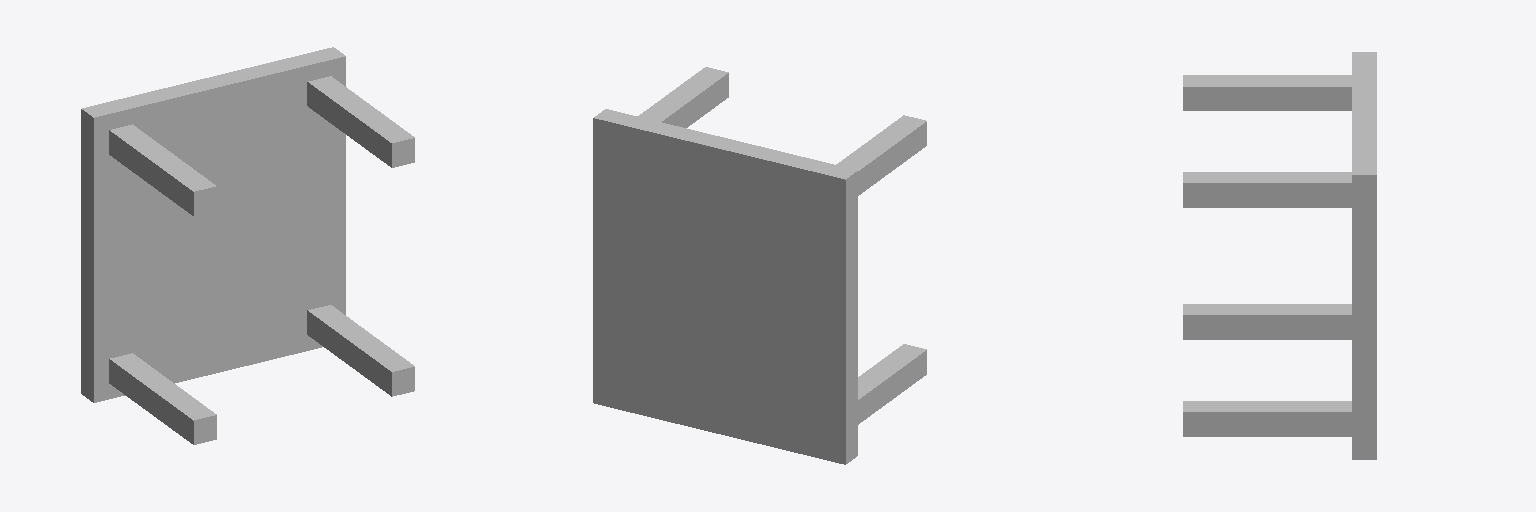
Rendered from random_table59.obj.
The picture shows the model from 3 angles: view 1: azimuth 30°, elevation 25°; view 2: azimuth 150°, elevation 25°; view 3: azimuth 270°, elevation 25°; orthographic projection.
Visible parts, largest first — view 1: Table_Cube.1360, TableLeg2_Cube.1363, TableLeg0_Cube.1361, TableLeg3_Cube.1364, TableLeg1_Cube.1362; view 2: Table_Cube.1360, TableLeg1_Cube.1362, TableLeg3_Cube.1364, TableLeg0_Cube.1361; view 3: Table_Cube.1360, TableLeg0_Cube.1361, TableLeg1_Cube.1362, TableLeg2_Cube.1363, TableLeg3_Cube.1364.
Boxes of the visible parts, box(x1,y1,x2,y2) form: Table_Cube.1360: box(81, 47, 345, 402); TableLeg2_Cube.1363: box(307, 305, 414, 396); TableLeg0_Cube.1361: box(307, 76, 414, 167); TableLeg3_Cube.1364: box(109, 353, 216, 444); TableLeg1_Cube.1362: box(109, 124, 216, 215); Table_Cube.1360: box(593, 109, 857, 464); TableLeg1_Cube.1362: box(836, 115, 926, 195); TableLeg3_Cube.1364: box(858, 344, 926, 424); TableLeg0_Cube.1361: box(638, 67, 728, 127); Table_Cube.1360: box(1352, 52, 1376, 459); TableLeg0_Cube.1361: box(1183, 172, 1351, 207); TableLeg1_Cube.1362: box(1183, 75, 1351, 110); TableLeg2_Cube.1363: box(1183, 401, 1351, 436); TableLeg3_Cube.1364: box(1183, 304, 1351, 339).
Bounding box in the file's own units: 6.31 × 6.82 × 4.2.